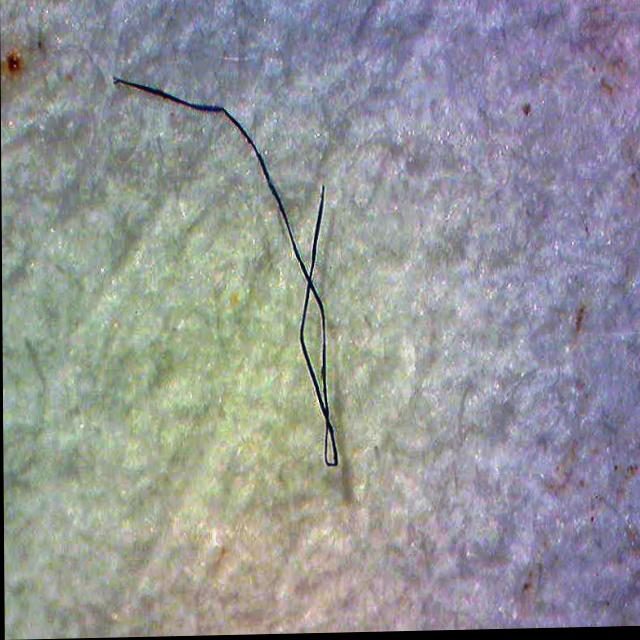microplastic: (114, 76, 309, 283), (299, 186, 325, 421), (310, 284, 338, 467)
